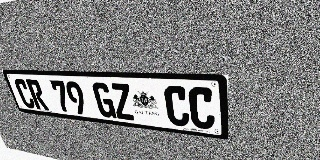7: (49, 80, 74, 113)
9: (64, 81, 89, 115)
C: (188, 87, 215, 130), (163, 85, 190, 127), (13, 79, 37, 109)
G: (91, 82, 117, 118)
R: (25, 79, 49, 110)
Z: (109, 83, 135, 121)
